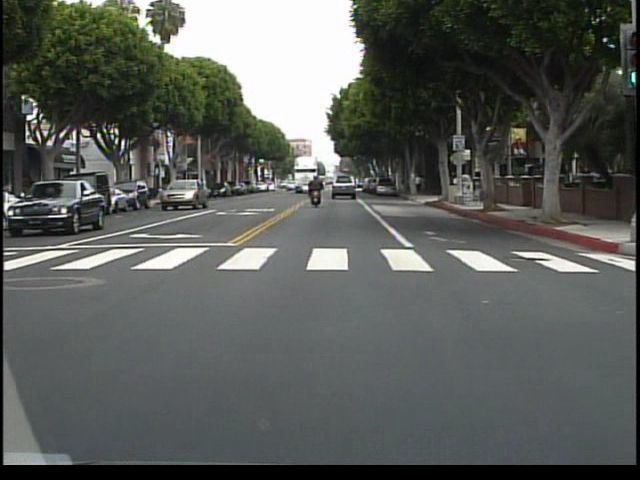person: (305, 170, 324, 209)
